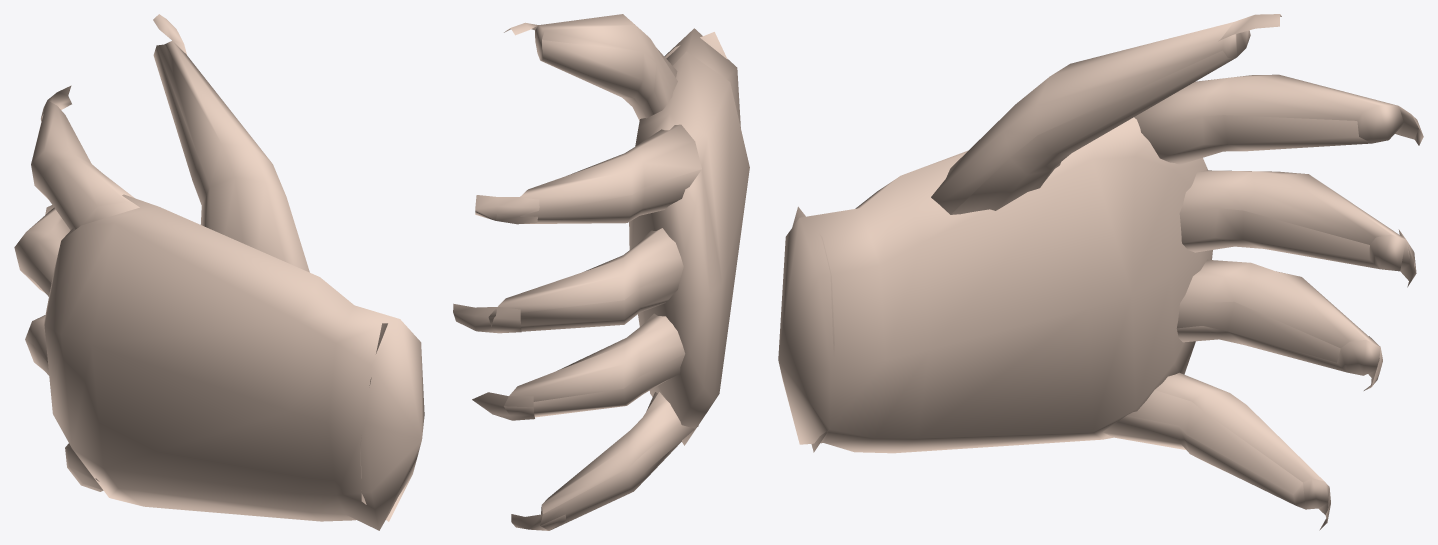
Rendered from GrannyHandLeft.fbx.
3 views of the same model, side by side, from view 1: azimuth 30°, elevation 25°; view 2: azimuth 150°, elevation 25°; view 3: azimuth 270°, elevation 25° (orthographic). The views are drawn at different scales.
Parts seen in each view (by area): view 1: GrannyHandLeft; view 2: GrannyHandLeft; view 3: GrannyHandLeft.
Boxes of the visible parts, x1,y1,x2,y2 form: GrannyHandLeft: (14,14,424,530); GrannyHandLeft: (453,14,749,530); GrannyHandLeft: (778,14,1423,530).
Bounding box in the file's own units: 0.0751 × 0.1474 × 0.1629.
